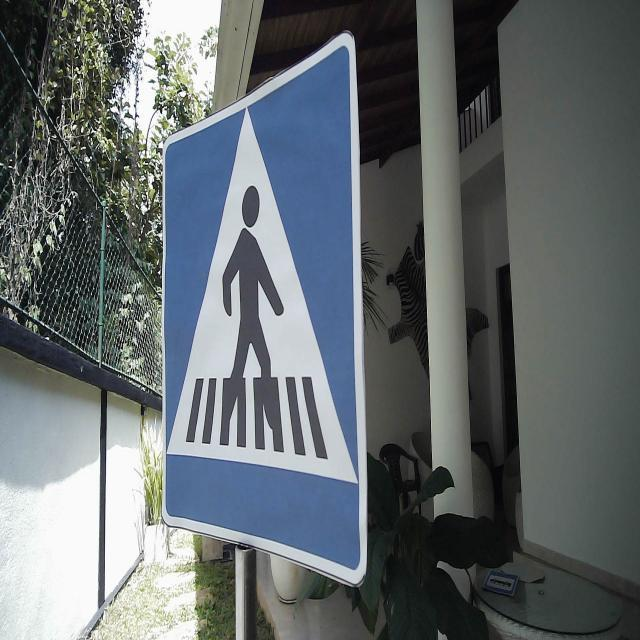crosswalk_sign: (160, 28, 370, 591)
